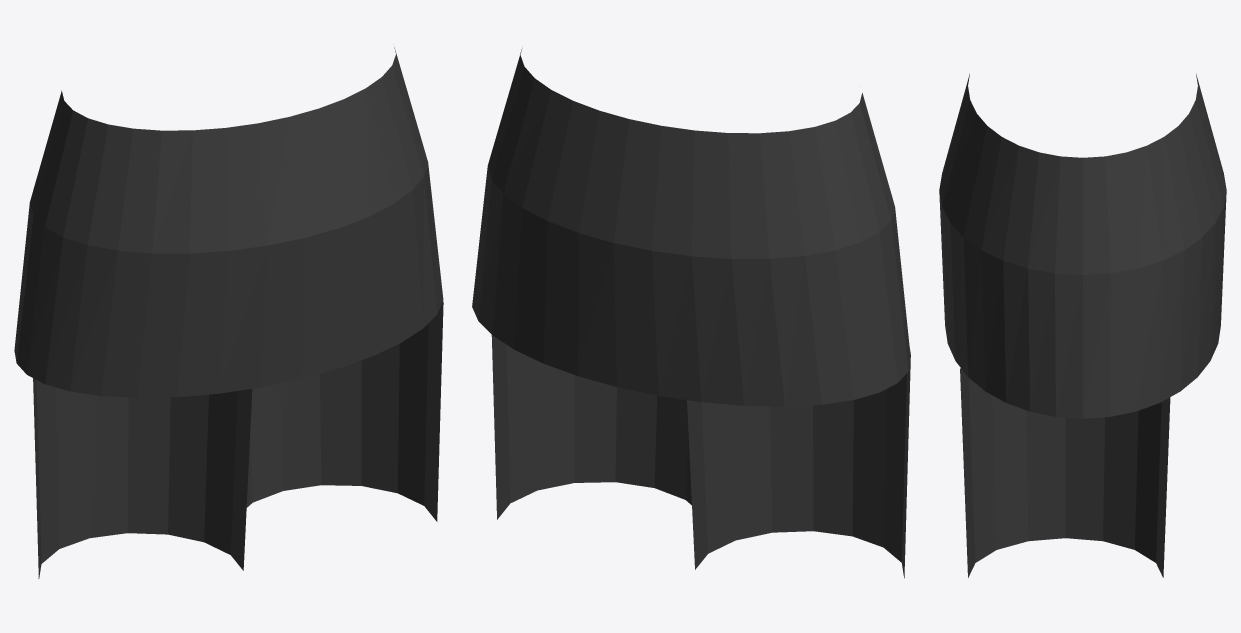
File: shorts.glb
3 views of the same model, side by side, from view 1: azimuth 30°, elevation 25°; view 2: azimuth 150°, elevation 25°; view 3: azimuth 270°, elevation 25° (orthographic). The views are drawn at different scales.
Parts seen in each view (by area): view 1: geometry_0; view 2: geometry_0; view 3: geometry_0.
Boxes of the visible parts, <box> form: geometry_0: <box>14,47,443,578</box>; geometry_0: <box>472,48,910,578</box>; geometry_0: <box>939,73,1226,577</box>.
Bounding box in the file's own units: 0.384 × 0.4308 × 0.25.
1 material, 1 textured.
